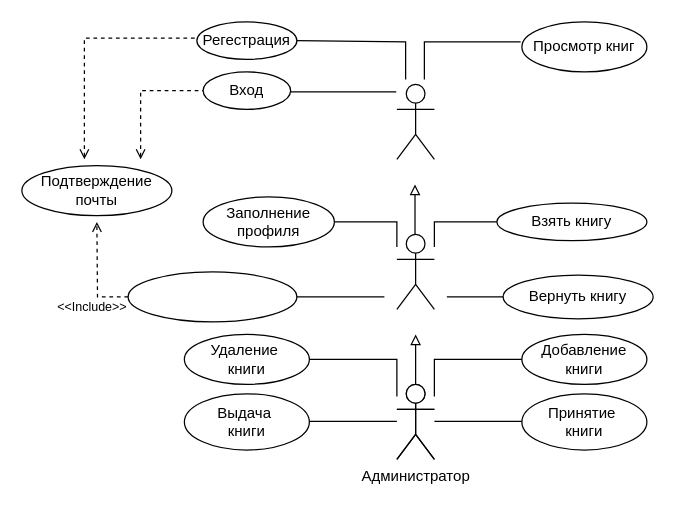
This 675x526 diagram has some shape labels left out. Here are the shapes that lost their labels. From the top down, the centre of each, then its label:
At [415,121]: "Пользователь".
At [415,271]: "Аутифицированный".
At [212,296]: "Редактирование профиля".
